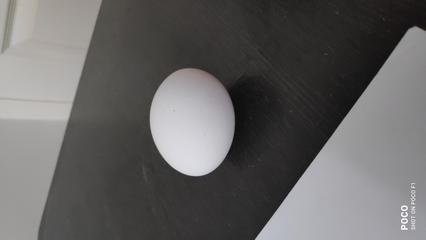eggs: (153, 63, 247, 176)
